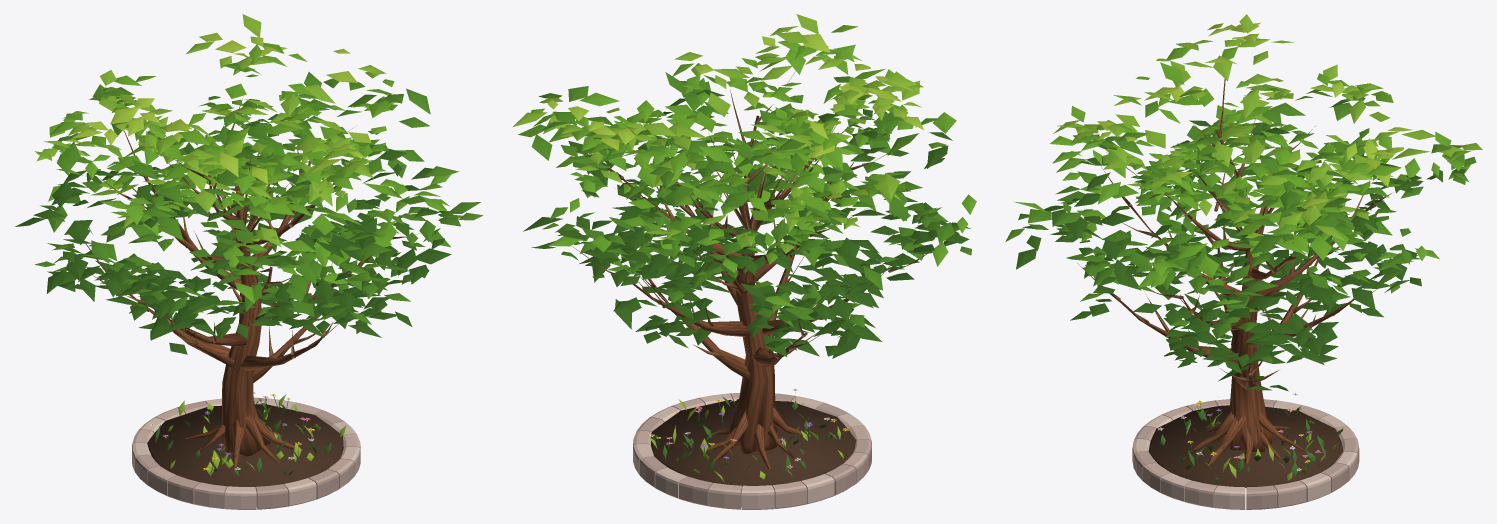
The model's file is tree-far.glb.
3 views of the same model, side by side, from view 1: azimuth 30°, elevation 25°; view 2: azimuth 150°, elevation 25°; view 3: azimuth 270°, elevation 25° (orthographic). The views are drawn at different scales.
Parts seen in each view (by area): view 1: Modeled broadleaf canopy · hue 1, Soil bed, Contoured camphor trunk, Radius-cut limestone planter block, Crown leader, Flower stem, Planter foliage.001; view 2: Modeled broadleaf canopy · hue 1, Soil bed, Contoured camphor trunk, Radius-cut limestone planter block, Crown leader, Flower stem, Planter foliage.001; view 3: Modeled broadleaf canopy · hue 1, Soil bed, Radius-cut limestone planter block, Contoured camphor trunk, Crown leader, Flower stem, Planter foliage.001.
Boxes of the visible parts, box(x1,y1,x2,y2) form: Modeled broadleaf canopy · hue 1: box(15, 14, 483, 354); Soil bed: box(147, 404, 343, 488); Contoured camphor trunk: box(129, 162, 372, 467); Radius-cut limestone planter block: box(132, 397, 360, 509); Crown leader: box(86, 99, 418, 358); Flower stem: box(153, 396, 331, 476); Planter foliage.001: box(168, 394, 346, 475); Modeled broadleaf canopy · hue 1: box(512, 14, 976, 358); Soil bed: box(651, 399, 855, 486); Contoured camphor trunk: box(617, 115, 853, 469); Radius-cut limestone planter block: box(633, 393, 871, 509); Crown leader: box(572, 71, 927, 358); Flower stem: box(653, 392, 844, 478); Planter foliage.001: box(647, 399, 843, 482); Modeled broadleaf canopy · hue 1: box(1005, 14, 1482, 391); Soil bed: box(1148, 405, 1342, 487); Radius-cut limestone planter block: box(1132, 399, 1359, 509); Contoured camphor trunk: box(1113, 130, 1377, 464); Crown leader: box(1077, 79, 1391, 383); Flower stem: box(1159, 403, 1326, 477); Planter foliage.001: box(1183, 408, 1343, 483).
Bounding box in the file's own units: 4.27 × 3.95 × 4.42.
Materials: 9 (5 with a texture image).
